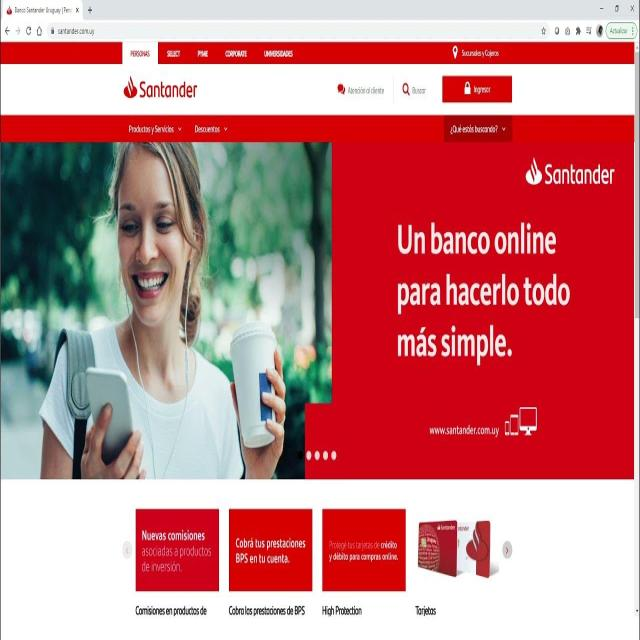santander: (124, 75, 137, 99)
